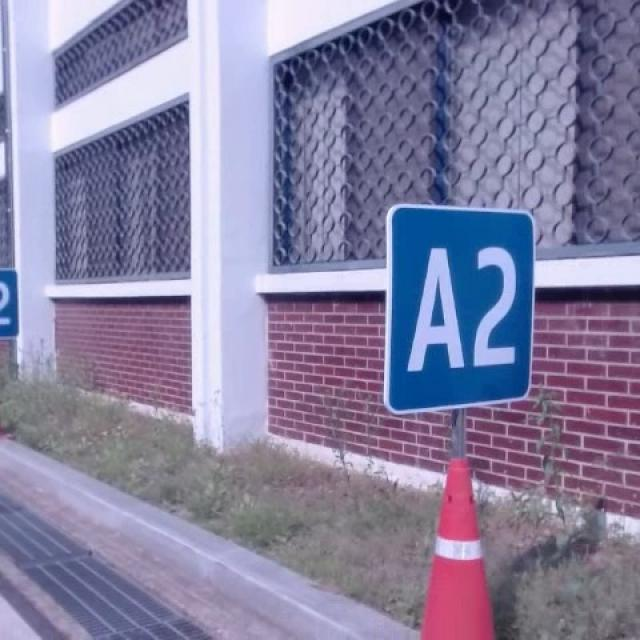a2: (378, 201, 538, 416)
